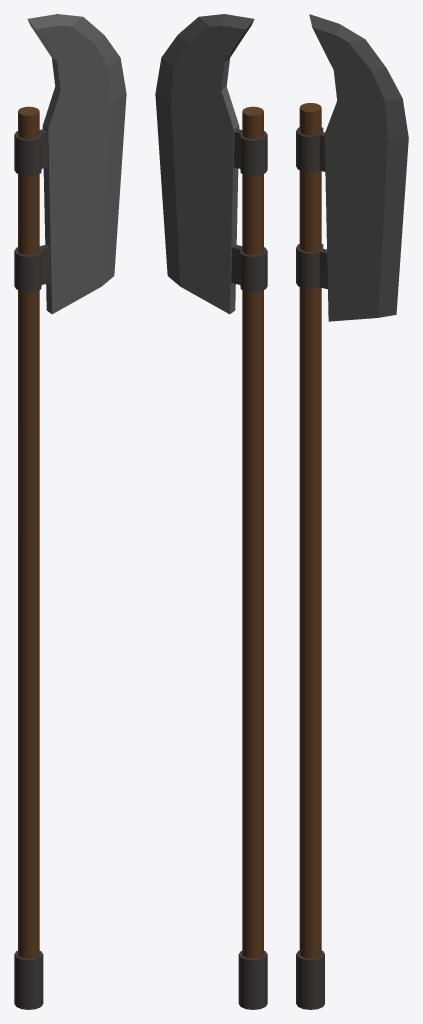
The model's file is Bardiche.glb.
The picture shows the model from 3 angles, left to right: view 1: azimuth 30°, elevation 25°; view 2: azimuth 150°, elevation 25°; view 3: azimuth 330°, elevation 25°; orthographic projection.
Parts seen in each view (by area): view 1: Bardiche; view 2: Bardiche; view 3: Bardiche.
Part boxes in pixels (x1,y1,x2,y2): Bardiche: (14,14,126,1009); Bardiche: (155,14,267,1009); Bardiche: (296,14,408,1009).
Size of the model in its own units: 0.1966 by 1.68 by 0.0446.
Materials: 1 (1 with a texture image).
